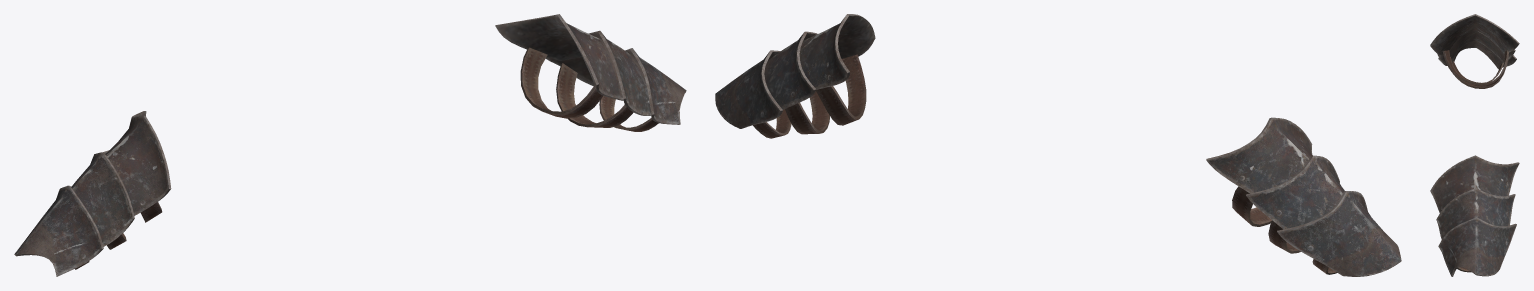
The model's file is sk_dg_uruk_bracer_heavy_a.fbx.
The picture shows the model from 3 angles, left to right: view 1: azimuth 30°, elevation 25°; view 2: azimuth 150°, elevation 25°; view 3: azimuth 270°, elevation 25°; orthographic projection. The views are drawn at different scales.
Parts seen in each view (by area): view 1: sk_dg_uruk_bracer_heavy_a; view 2: sk_dg_uruk_bracer_heavy_a; view 3: sk_dg_uruk_bracer_heavy_a.
Part boxes in pixels (box(x1,y1,x2,y2)): sk_dg_uruk_bracer_heavy_a: box(14, 14, 686, 276); sk_dg_uruk_bracer_heavy_a: box(715, 14, 1401, 276); sk_dg_uruk_bracer_heavy_a: box(1430, 14, 1519, 276).
Bounding box in the file's own units: 1.4 × 0.2322 × 0.2662.
Materials: 1 (1 with a texture image).
